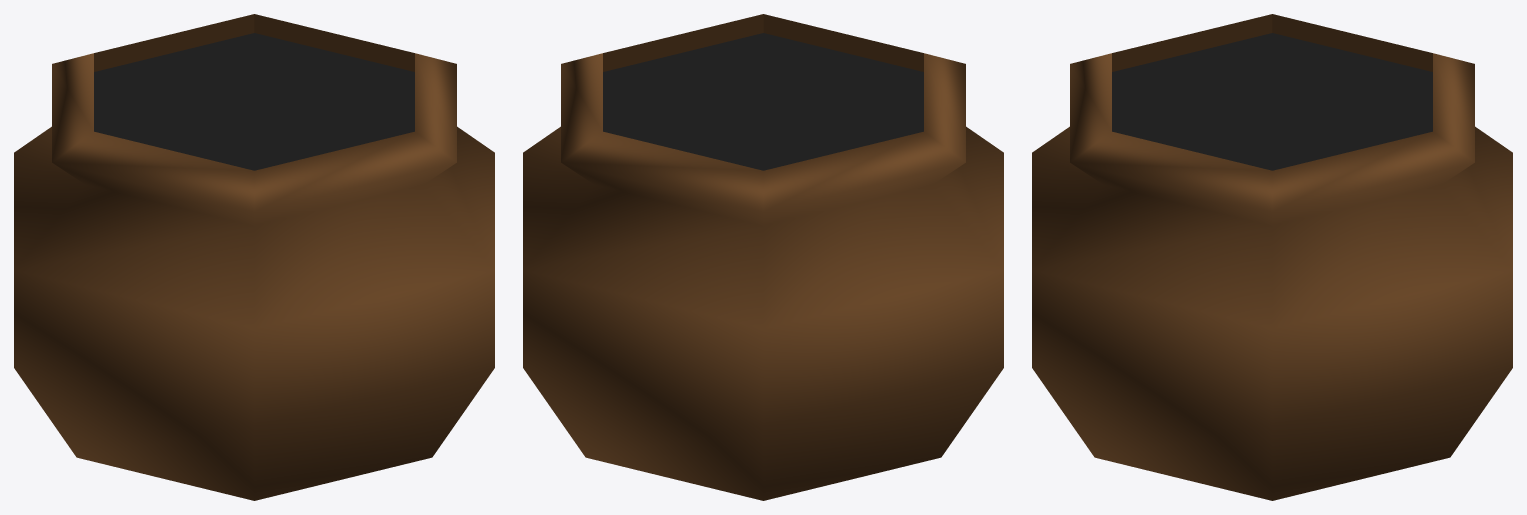
The model's file is Jar_1.fbx.
The picture shows the model from 3 angles, left to right: view 1: azimuth 30°, elevation 25°; view 2: azimuth 150°, elevation 25°; view 3: azimuth 270°, elevation 25°; orthographic projection.
Parts seen in each view (by area): view 1: pot_1; view 2: pot_1; view 3: pot_1.
Boxes of the visible parts, box(x1,y1,x2,y2) form: pot_1: box(14, 14, 494, 500); pot_1: box(523, 14, 1003, 500); pot_1: box(1032, 14, 1512, 500).
Size of the model in its own units: 47.34 by 30.27 by 41.
